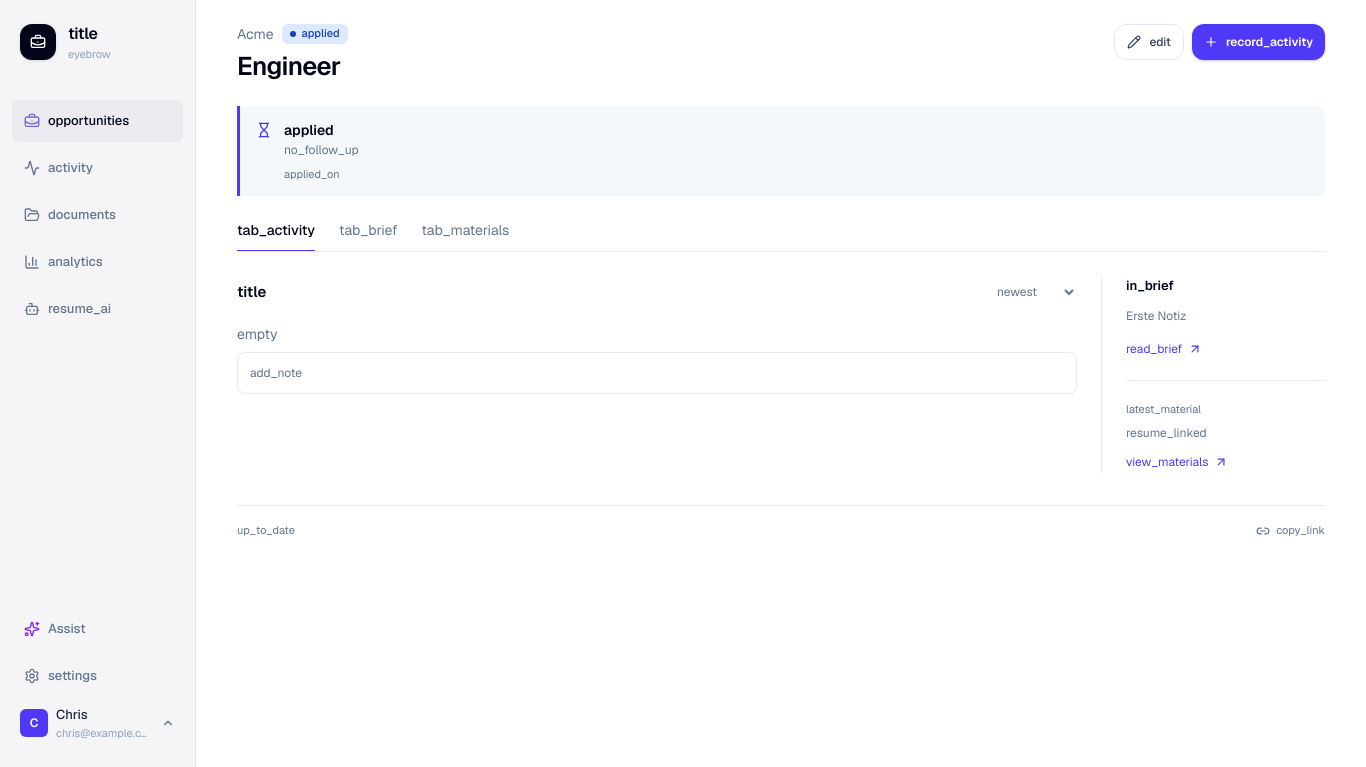
it: ApplicationDetail › keeps submission history with documents and resume actions in Materials
Click the tab "tab_materials" at (465, 236), box [422,220,509,252]
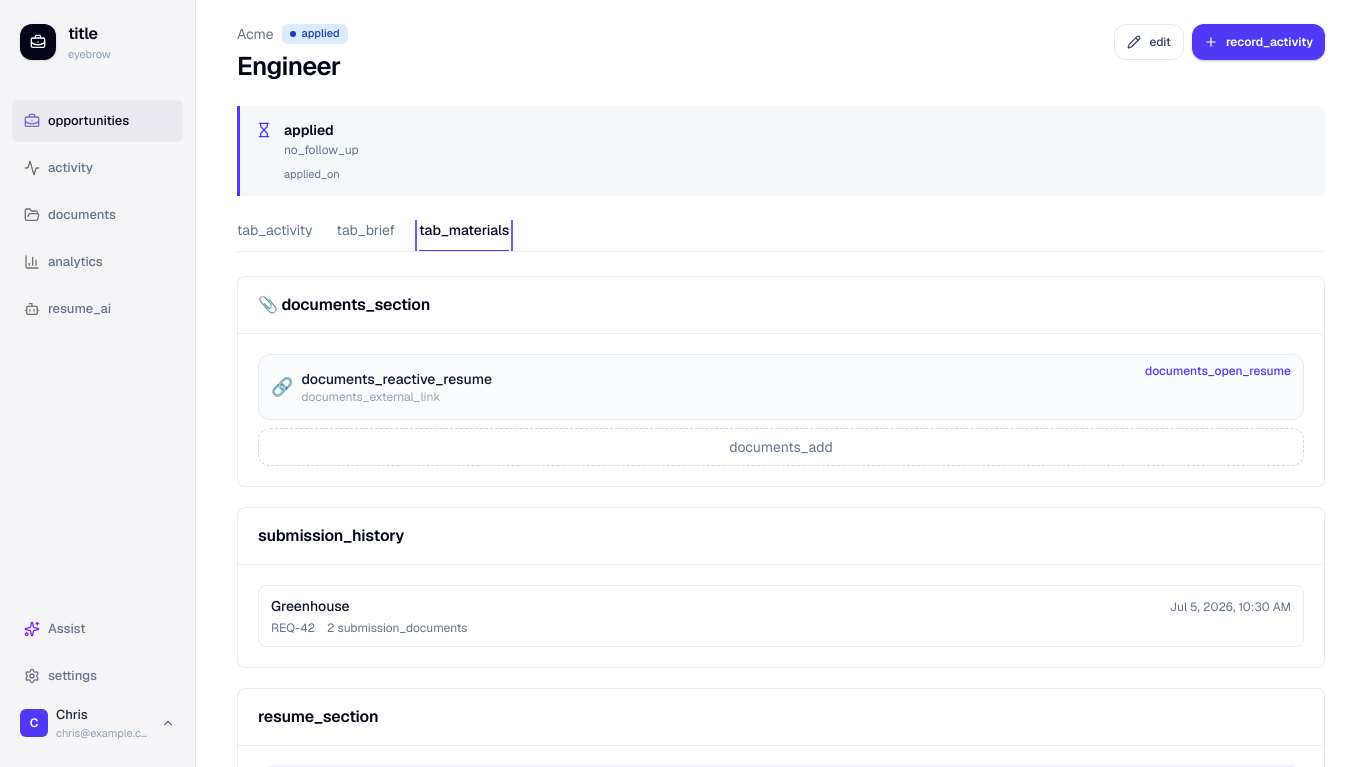
expect the heading "submission_history" is shown: met, box [258,524,404,548]
expect the text "Greenhouse" is shown: met, box [271,596,350,616]
expect the text "REQ-42" is shown: met, box [271,620,315,636]
